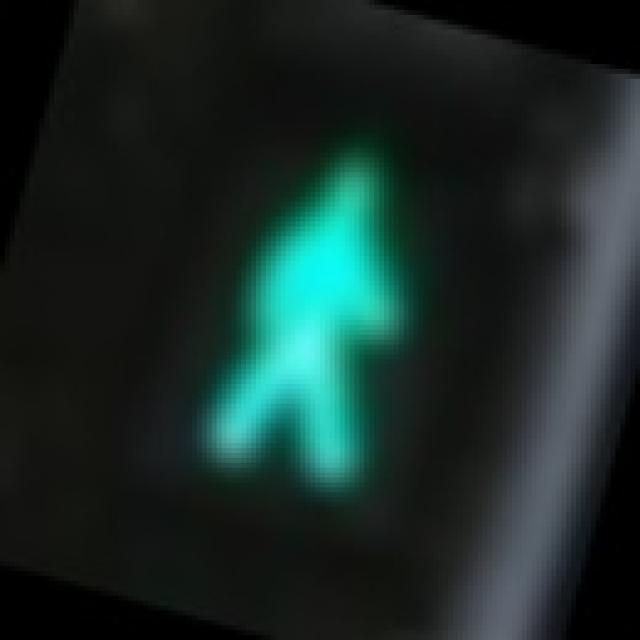geen-crossing: (94, 59, 536, 561)
